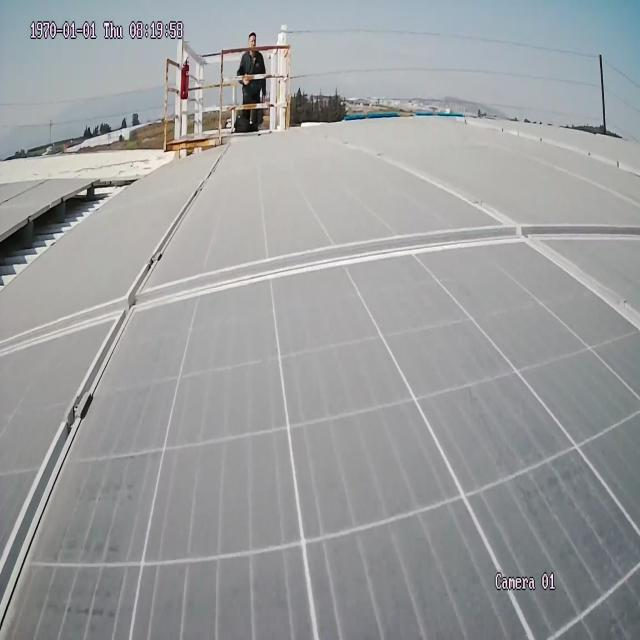interior panel: (0, 148, 640, 629)
